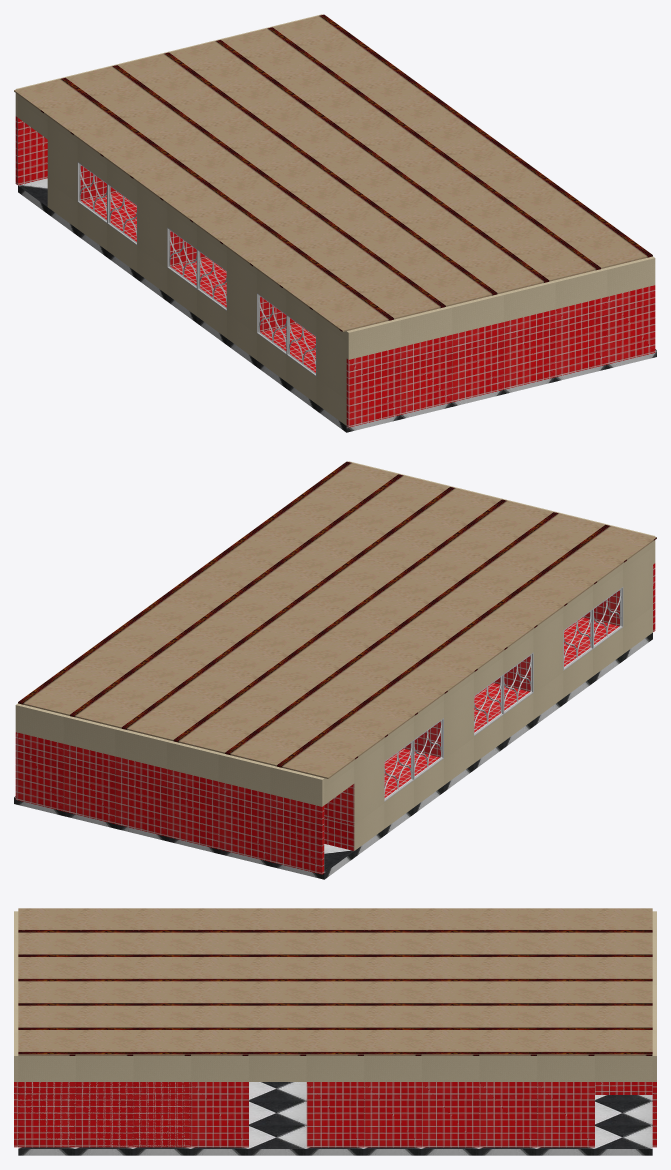
Rendered from Kitchen.fbx.
3 renders of one model, top to bottom at view 1: azimuth 30°, elevation 25°; view 2: azimuth 150°, elevation 25°; view 3: azimuth 270°, elevation 25°, orthographic. The views are drawn at different scales.
Visible parts, largest first — view 1: KitchenCeiling, KitchenWallB0Back.001, KitchenWallB0Back, KitchenWallB1Right.003, KitchenFloorTiles, KitchenWallB0Back.002, KitchenWallB0Back.003, KitchenWallB0Front, KitchenWallB1Right.002, KitchenWindow.004, KitchenWindow.005, KitchenWindow; view 2: KitchenCeiling, KitchenWallB0Back.001, KitchenWallB0Front, KitchenWallB1Right.001, KitchenWallB0Back.002, KitchenFloorTiles, KitchenWallB0Front.001, KitchenWallB1Right.004, KitchenWindow.003, KitchenWindow.001, KitchenWindow; view 3: KitchenCeiling, KitchenWallB0Right, KitchenWallB1Right, KitchenFloorTiles, KitchenWallB0Right.001, Fridge, KitchenWallB0Front.002, KitchenWallB1Right.003, KitchenWallB1Right.001.
Part boxes in pixels (x1=…): KitchenCeiling: x1=14, y1=14, x2=652, y2=331; KitchenWallB0Back.001: x1=77, y1=138, x2=346, y2=425; KitchenWallB0Back: x1=346, y1=297, x2=607, y2=427; KitchenWallB1Right.003: x1=346, y1=268, x2=607, y2=359; KitchenFloorTiles: x1=18, y1=178, x2=656, y2=432; KitchenWallB0Back.002: x1=18, y1=95, x2=117, y2=228; KitchenWallB0Back.003: x1=607, y1=285, x2=655, y2=364; KitchenWallB0Front: x1=15, y1=116, x2=47, y2=185; KitchenWallB1Right.002: x1=605, y1=256, x2=655, y2=296; KitchenWindow.004: x1=107, y1=184, x2=137, y2=245; KitchenWindow.005: x1=77, y1=162, x2=107, y2=223; KitchenWindow: x1=286, y1=315, x2=316, y2=376; KitchenCeiling: x1=18, y1=461, x2=656, y2=778; KitchenWallB0Back.001: x1=384, y1=542, x2=652, y2=828; KitchenWallB0Front: x1=63, y1=744, x2=324, y2=874; KitchenWallB1Right.001: x1=63, y1=715, x2=324, y2=806; KitchenWallB0Back.002: x1=324, y1=738, x2=384, y2=850; KitchenFloorTiles: x1=14, y1=633, x2=652, y2=879; KitchenWallB0Front.001: x1=15, y1=732, x2=63, y2=811; KitchenWallB1Right.004: x1=15, y1=703, x2=65, y2=743; KitchenWindow.003: x1=503, y1=652, x2=533, y2=714; KitchenWindow.001: x1=563, y1=609, x2=593, y2=670; KitchenWindow: x1=593, y1=587, x2=623, y2=648; KitchenCeiling: x1=18, y1=908, x2=652, y2=1055; KitchenWallB0Right: x1=306, y1=1082, x2=594, y2=1147; KitchenWallB1Right: x1=18, y1=1056, x2=652, y2=1081; KitchenFloorTiles: x1=18, y1=1082, x2=652, y2=1155; KitchenWallB0Right.001: x1=19, y1=1082, x2=248, y2=1147; Fridge: x1=18, y1=1082, x2=191, y2=1147; KitchenWallB0Front.002: x1=595, y1=1082, x2=652, y2=1094; KitchenWallB1Right.003: x1=14, y1=911, x2=18, y2=1033; KitchenWallB1Right.001: x1=652, y1=911, x2=656, y2=1033.
Size of the model in its own units: 1215 by 380 by 2230.
